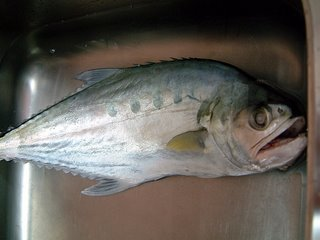fish: (1, 58, 314, 198)
